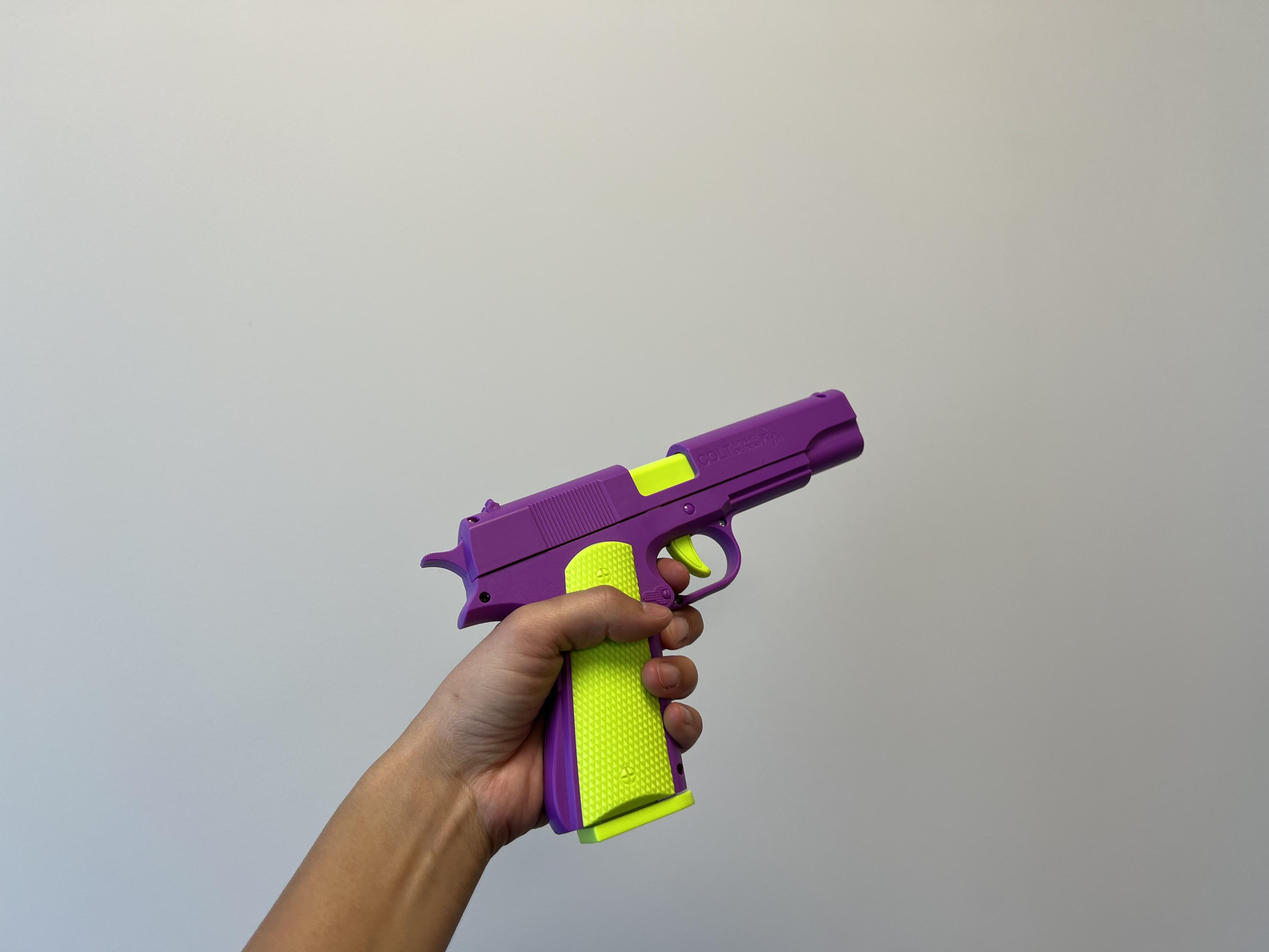Knife: (411, 381, 877, 852), (230, 551, 707, 952), (408, 548, 716, 853)
